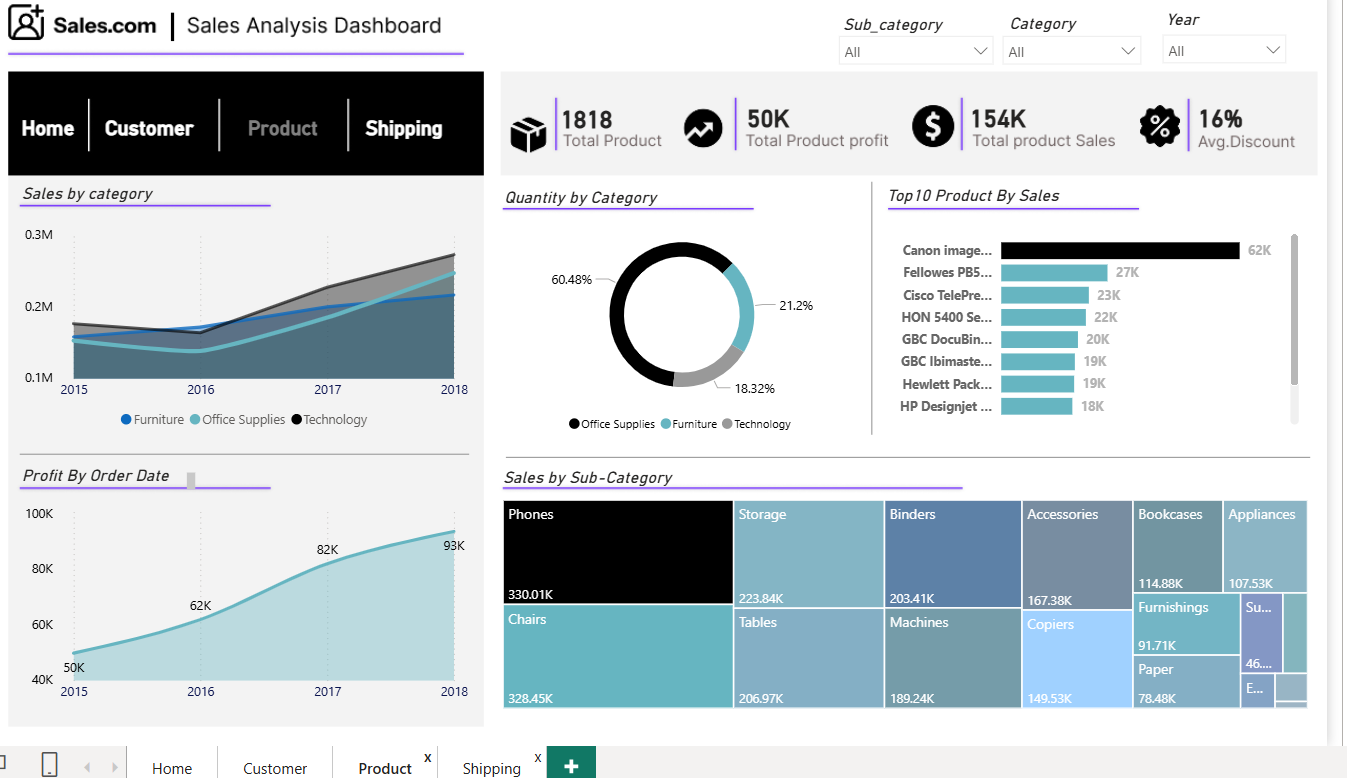

The dashboard page shown, as its layout file describes it:
{"tool":"powerbi","page":{"name":"Product ","canvas":[1280,720],"ordinal":2},"visuals":[{"type":"areaChart","fields":{"Category":["DateDim.Order Date.Variation.Date Hierarchy.Year"],"Series":["ProductDim.Category"],"Y":["DAX Measure.Total_sales"]},"box":[34.5,219,432.1,208.3],"z":0},{"type":"areaChart","fields":{"Category":["DateDim.Order Date.Variation.Date Hierarchy.Year","DateDim.Order Date.Variation.Date Hierarchy.Quarter","DateDim.Order Date.Variation.Date Hierarchy.Month","DateDim.Order Date.Variation.Date Hierarchy.Day"],"Y":["DAX Measure.Total_profit"]},"box":[34.5,484.5,432.1,202.4],"z":1000},{"type":"actionButton","title":"Home","box":[11.9,120.2,100,40.5],"z":2000},{"type":"actionButton","title":"Customer","box":[108.3,120.2,100,40.5],"z":3000},{"type":"actionButton","title":"Product","box":[235.7,120.2,100,40.5],"z":4000},{"type":"actionButton","title":"Shipping","box":[351.2,120.2,100,40.5],"z":5000},{"type":"card","fields":{"Values":["DAX Measure.Total_Product"]},"box":[536.9,106,76.2,34.5],"z":6000},{"type":"card","fields":{"Values":["DAX Measure.Top_Customer_Profit"]},"box":[701.2,104.8,92.9,34.5],"z":7000},{"type":"card","fields":{"Values":["DAX Measure.Top_Customer_Sales"]},"box":[909.5,104.8,114.3,34.5],"z":8000},{"type":"card","fields":{"Values":["DAX Measure.Avg_discount"]},"box":[1132.1,104.8,92.9,34.5],"z":9000},{"type":"textbox","title":"Sales  by category","box":[32.1,184.5,176.2,26.2],"z":10000},{"type":"textbox","title":"Order Date By Profit ","box":[31,454.8,176.2,26.2],"z":11000},{"type":"treemap","fields":{"Group":["ProductDim.Sub-Category"],"Values":["DAX Measure.Total_sales"]},"box":[490.5,481,776.2,208.3],"z":12000},{"type":"textbox","title":"Sales by Sub-Category ","box":[490.5,454.8,176.2,26.2],"z":13000},{"type":"barChart","fields":{"Category":["ProductDim.Product Name"],"Y":["DAX Measure.Total_sales"]},"box":[856,219,402.4,200],"z":14000},{"type":"textbox","title":"Top10 Product By Sales","box":[856.3,186.6,175.6,27.4],"z":15000},{"type":"pieChart","fields":{"Category":["ProductDim.Category"],"Y":["Sum(Sales.Quantity)"]},"box":[492.6,214.1,345.8,216.8],"z":16000},{"type":"textbox","title":"Quantity by Category","box":[491.3,188,175.6,26.1],"z":17000},{"type":"textbox","title":"Year","box":[1121.4,19,60.7,26.2],"z":18000},{"type":"slicer","fields":{"Values":["DateDim.Order Date.Variation.Date Hierarchy.Year"]},"box":[1113.1,32.1,138.1,48.8],"z":19000},{"type":"slicer","fields":{"Values":["Sales.Ship Mode"]},"box":[960.7,33.3,152.4,48.8],"z":20000},{"type":"textbox","title":"Category","box":[972.6,22.6,85.7,27.4],"z":21000},{"type":"textbox","title":"Sub_category","box":[814.3,23.8,150,26.2],"z":22000},{"type":"slicer","fields":{"Values":["ProductDim.Sub-Category"]},"box":[804.8,33.3,167.9,42.9],"z":23000},{"type":"textbox","title":"Profit By Order Date","box":[32.1,453.6,176.2,26.2],"z":23001}]}

Visuals, with their boxes on the page's 1280x720 design canvas (x1, y1, x2, y2). These are canvas units, not pixel positions in the 1347x778 screenshot, which may show the page scaled, cropped or inside an application window:
areaChart - DateDim.Order Date.Variation.Date Hierarchy.Year x ProductDim.Category: {"left": 34, "top": 219, "right": 467, "bottom": 427}
areaChart - DateDim.Order Date.Variation.Date Hierarchy.Year x DateDim.Order Date.Variation.Date Hierarchy.Quarter: {"left": 34, "top": 484, "right": 467, "bottom": 687}
"Home" actionButton: {"left": 12, "top": 120, "right": 112, "bottom": 161}
"Customer" actionButton: {"left": 108, "top": 120, "right": 208, "bottom": 161}
"Product" actionButton: {"left": 236, "top": 120, "right": 336, "bottom": 161}
"Shipping" actionButton: {"left": 351, "top": 120, "right": 451, "bottom": 161}
card - DAX Measure.Total_Product: {"left": 537, "top": 106, "right": 613, "bottom": 140}
card - DAX Measure.Top_Customer_Profit: {"left": 701, "top": 105, "right": 794, "bottom": 139}
card - DAX Measure.Top_Customer_Sales: {"left": 910, "top": 105, "right": 1024, "bottom": 139}
card - DAX Measure.Avg_discount: {"left": 1132, "top": 105, "right": 1225, "bottom": 139}
"Sales  by category" textbox: {"left": 32, "top": 184, "right": 208, "bottom": 211}
"Order Date By Profit " textbox: {"left": 31, "top": 455, "right": 207, "bottom": 481}
treemap - ProductDim.Sub-Category x DAX Measure.Total_sales: {"left": 490, "top": 481, "right": 1267, "bottom": 689}
"Sales by Sub-Category " textbox: {"left": 490, "top": 455, "right": 667, "bottom": 481}
barChart - ProductDim.Product Name x DAX Measure.Total_sales: {"left": 856, "top": 219, "right": 1258, "bottom": 419}
"Top10 Product By Sales" textbox: {"left": 856, "top": 187, "right": 1032, "bottom": 214}
pieChart - ProductDim.Category x Sum(Sales.Quantity): {"left": 493, "top": 214, "right": 838, "bottom": 431}
"Quantity by Category" textbox: {"left": 491, "top": 188, "right": 667, "bottom": 214}
"Year" textbox: {"left": 1121, "top": 19, "right": 1182, "bottom": 45}
slicer - DateDim.Order Date.Variation.Date Hierarchy.Year: {"left": 1113, "top": 32, "right": 1251, "bottom": 81}
slicer - Sales.Ship Mode: {"left": 961, "top": 33, "right": 1113, "bottom": 82}
"Category" textbox: {"left": 973, "top": 23, "right": 1058, "bottom": 50}
"Sub_category" textbox: {"left": 814, "top": 24, "right": 964, "bottom": 50}
slicer - ProductDim.Sub-Category: {"left": 805, "top": 33, "right": 973, "bottom": 76}
"Profit By Order Date" textbox: {"left": 32, "top": 454, "right": 208, "bottom": 480}
